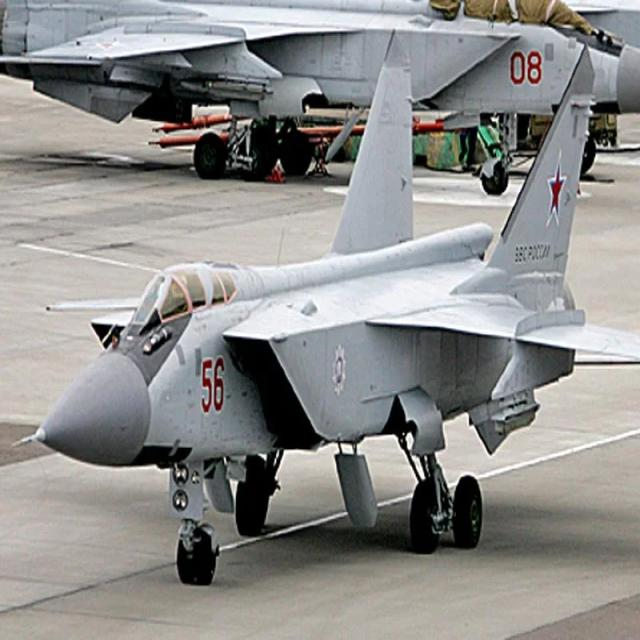MIL_Plane: (11, 27, 640, 586), (1, 1, 640, 196)
